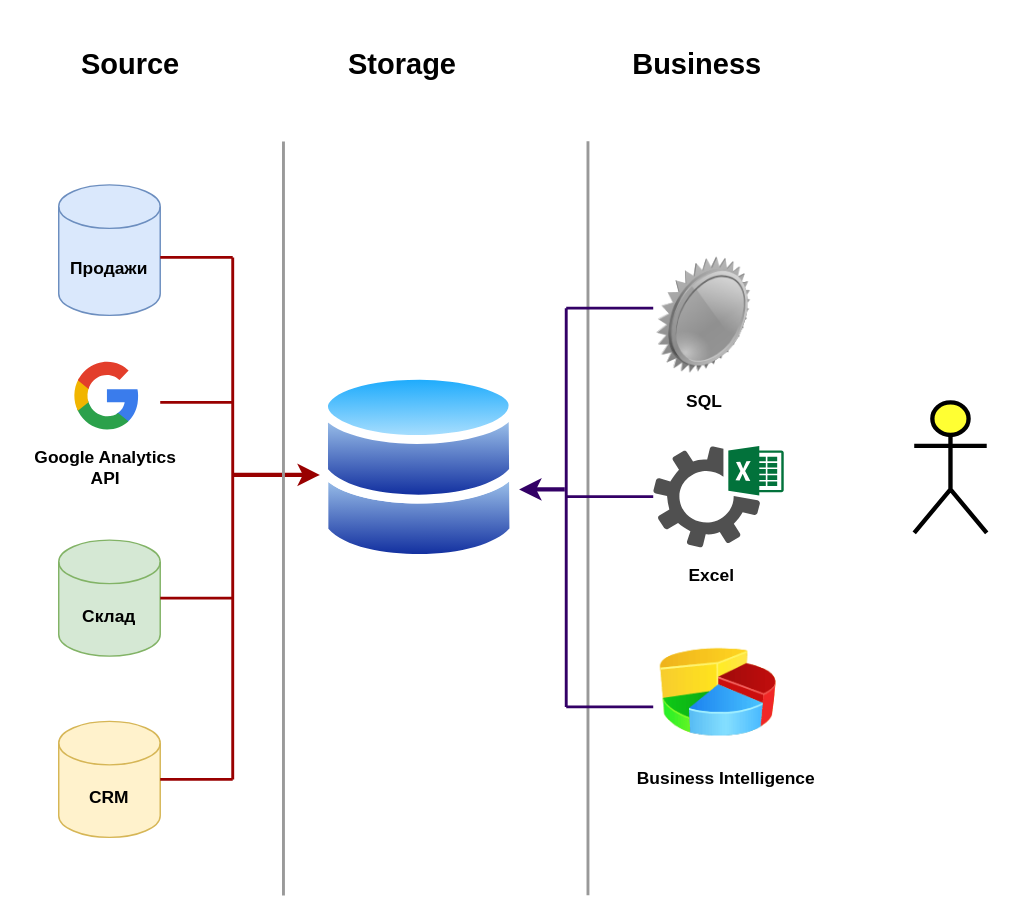
The diagram is 1015 pixels wide and 921 high, and some of its shapes have lost their labels. The box of each missing label's shape, as (x1, y1, x2, y2) in pixels:
Actor: (911, 399, 988, 534)
Хранилище данных: (319, 347, 518, 587)
